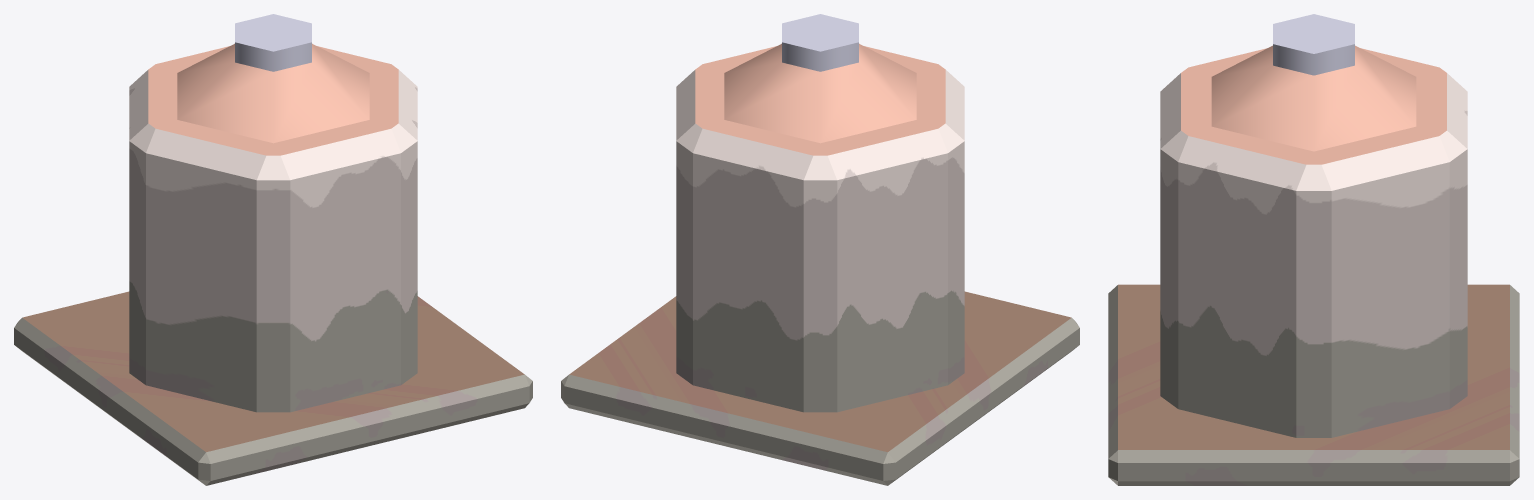
Rendered from R4X_ChargeCapacity_LOD1.glb.
3 renders of one model, left to right at view 1: azimuth 30°, elevation 25°; view 2: azimuth 150°, elevation 25°; view 3: azimuth 270°, elevation 25°, orthographic. The views are drawn at different scales.
Visible parts, largest first — view 1: R4X_ChargeCapacity_LOD1; view 2: R4X_ChargeCapacity_LOD1; view 3: R4X_ChargeCapacity_LOD1.
Part boxes in pixels (bbox=[...]): R4X_ChargeCapacity_LOD1: bbox=[14, 14, 532, 485]; R4X_ChargeCapacity_LOD1: bbox=[561, 14, 1079, 485]; R4X_ChargeCapacity_LOD1: bbox=[1108, 14, 1519, 485].
Bounding box in the file's own units: 0.52 × 0.515 × 0.52.
Materials: 5 (4 with a texture image).
